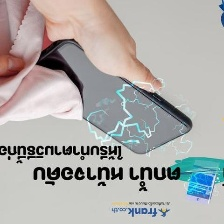phone: (14, 33, 194, 160)
